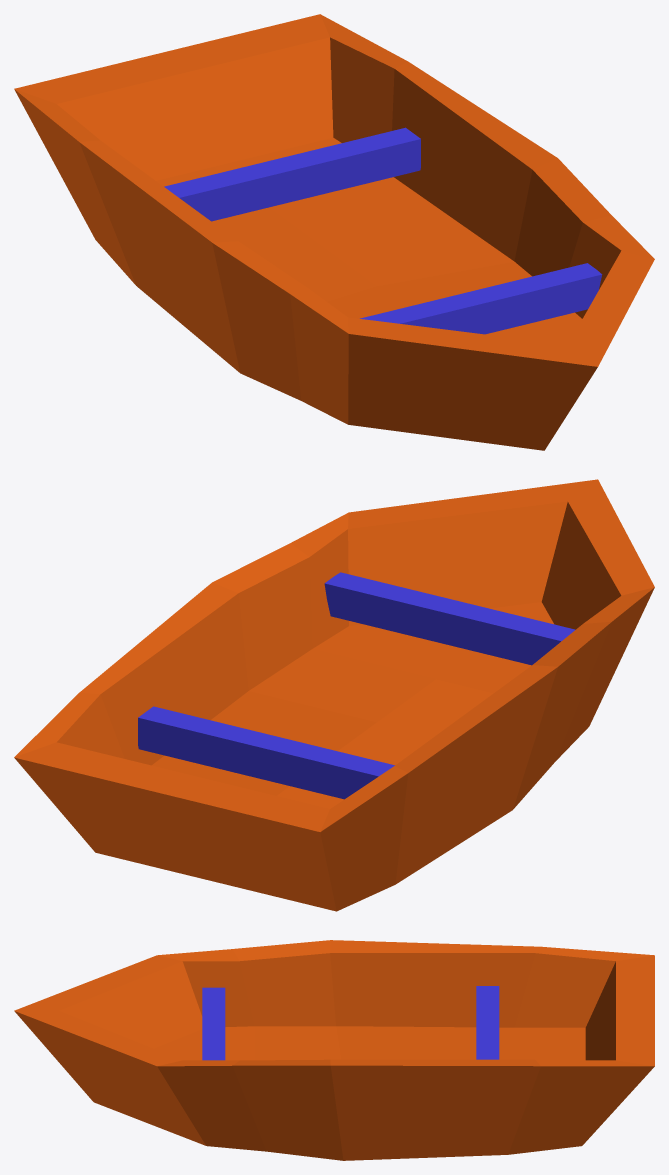
The model's file is boat.glb.
The picture shows the model from 3 angles, top to bottom: view 1: azimuth 30°, elevation 25°; view 2: azimuth 150°, elevation 25°; view 3: azimuth 270°, elevation 25°; orthographic projection. The views are drawn at different scales.
Visible parts, largest first — view 1: 立方体.001, 立方体.003, 立方体.002; view 2: 立方体.001, 立方体.003, 立方体.002; view 3: 立方体.001, 立方体.003, 立方体.002.
Part boxes in pixels (x1,y1,x2,y2): 立方体.001: (14,14,654,450); 立方体.003: (164,127,420,221); 立方体.002: (360,263,602,334); 立方体.001: (14,479,654,911); 立方体.003: (138,706,394,799); 立方体.002: (324,572,575,665); 立方体.001: (14,940,654,1160); 立方体.003: (476,986,499,1059); 立方体.002: (202,987,225,1060).
Bounding box in the file's own units: 1.68 × 0.6771 × 3.62.
